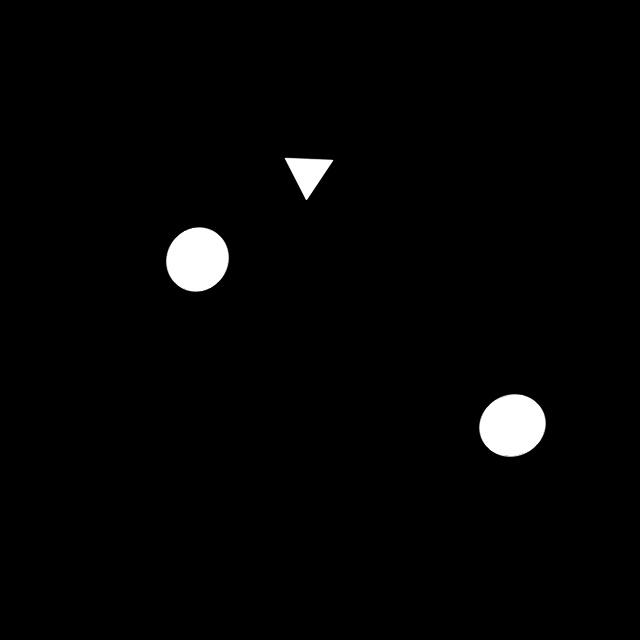Circle: (161, 216, 235, 311), (473, 385, 553, 463)
Triangle: (277, 144, 341, 212)
